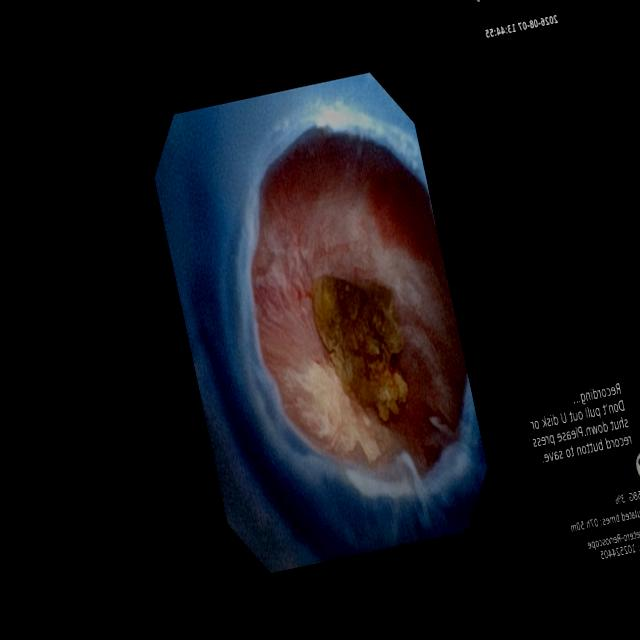stone-new: (313, 275, 407, 420)
